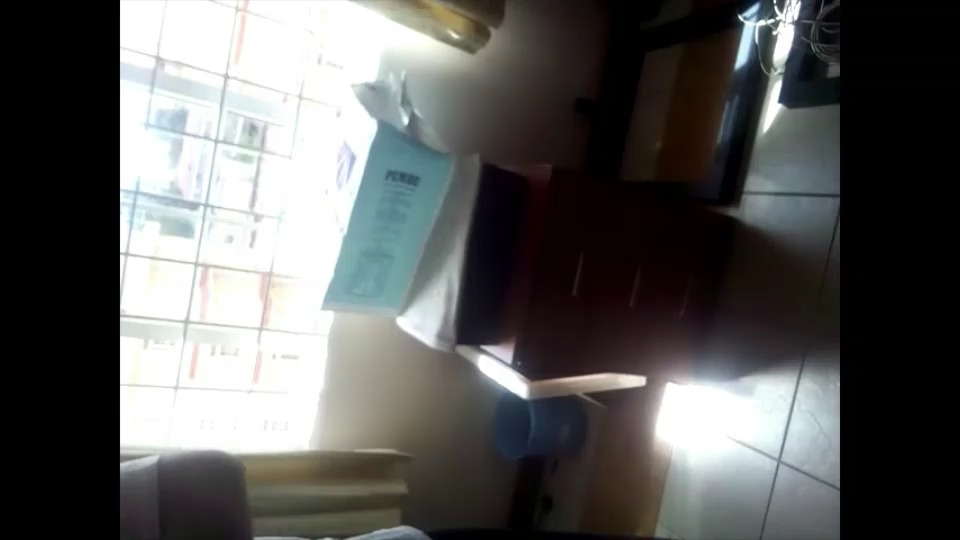wheat_flour_blue_label: (296, 73, 456, 316)
